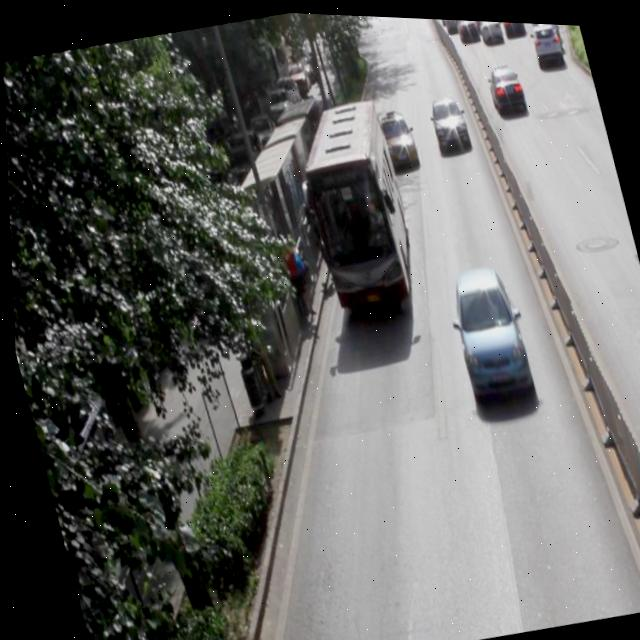car: (440, 257, 531, 401), (424, 88, 470, 150), (374, 107, 419, 168), (481, 58, 525, 115)
van: (286, 92, 421, 313)
